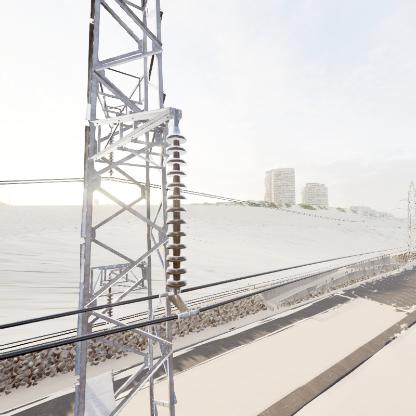insulator: (162, 130, 191, 295)
